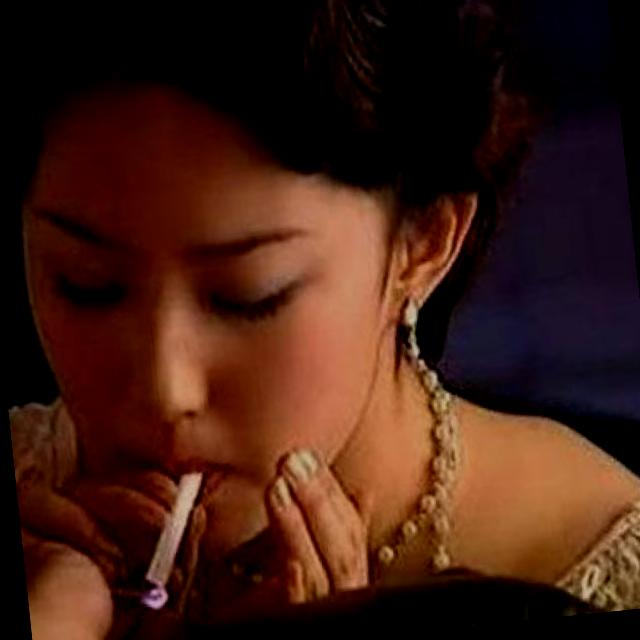smoke: (115, 454, 234, 608)
